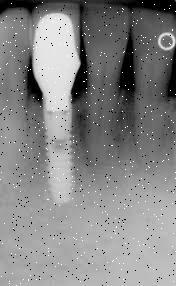BioHorizons: (43, 108, 77, 206)
